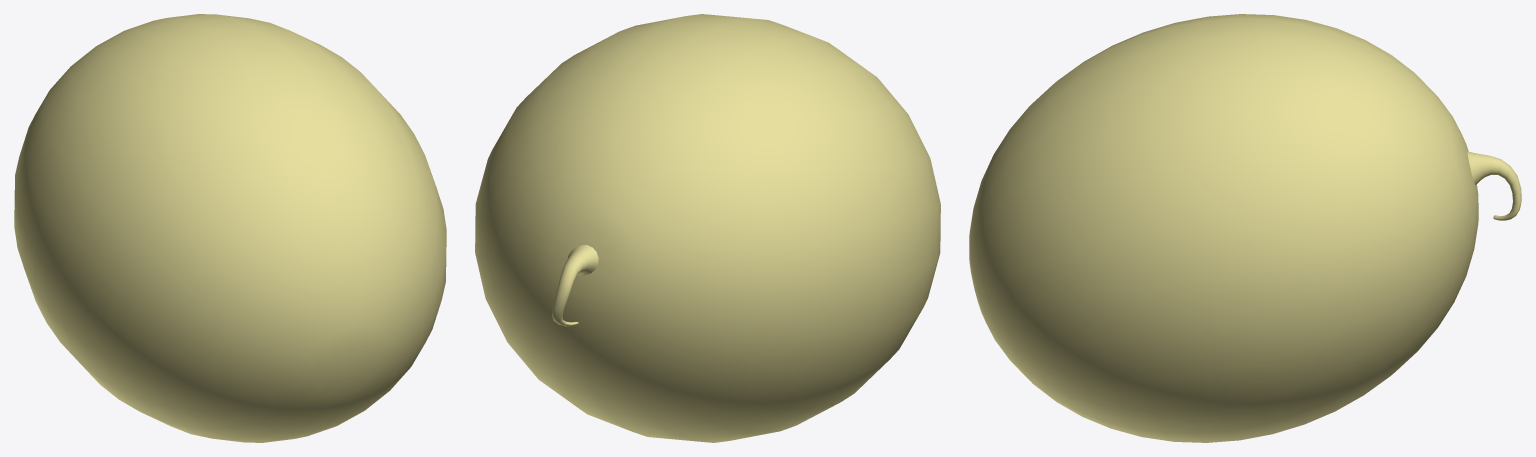
Rendered from Melon_lod1.fbx.
3 renders of one model, left to right at view 1: azimuth 30°, elevation 25°; view 2: azimuth 150°, elevation 25°; view 3: azimuth 270°, elevation 25°, orthographic. The views are drawn at different scales.
Visible parts, largest first — view 1: melon2; view 2: melon2, tail1; view 3: melon2, tail1.
Part boxes in pixels (x1,y1,x2,y2): melon2: (14,14,446,442); melon2: (475,14,940,442); tail1: (552,245,598,326); melon2: (969,14,1478,442); tail1: (1467,151,1521,220).
Bounding box in the file's own units: 21.19 × 20.37 × 26.52.
